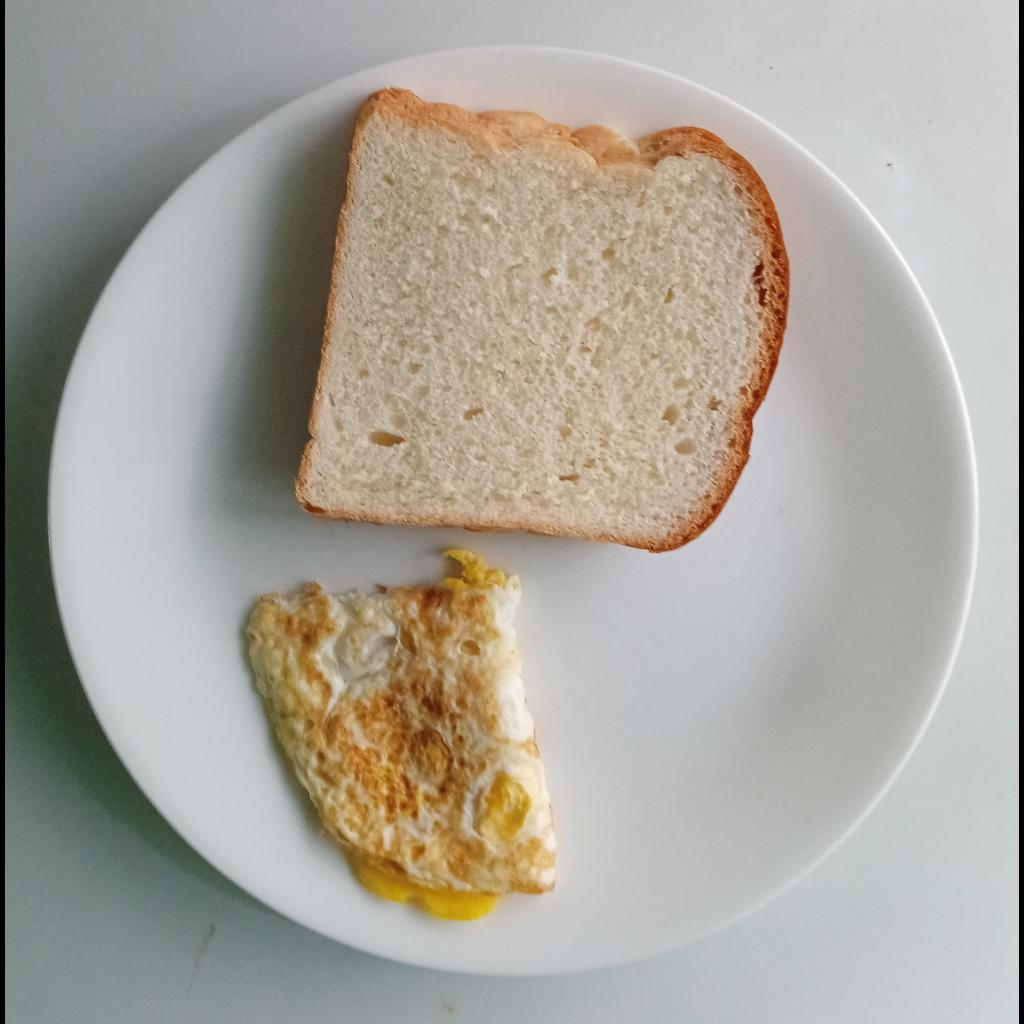bread: (300, 89, 792, 553)
egg-poached: (240, 553, 557, 924)
